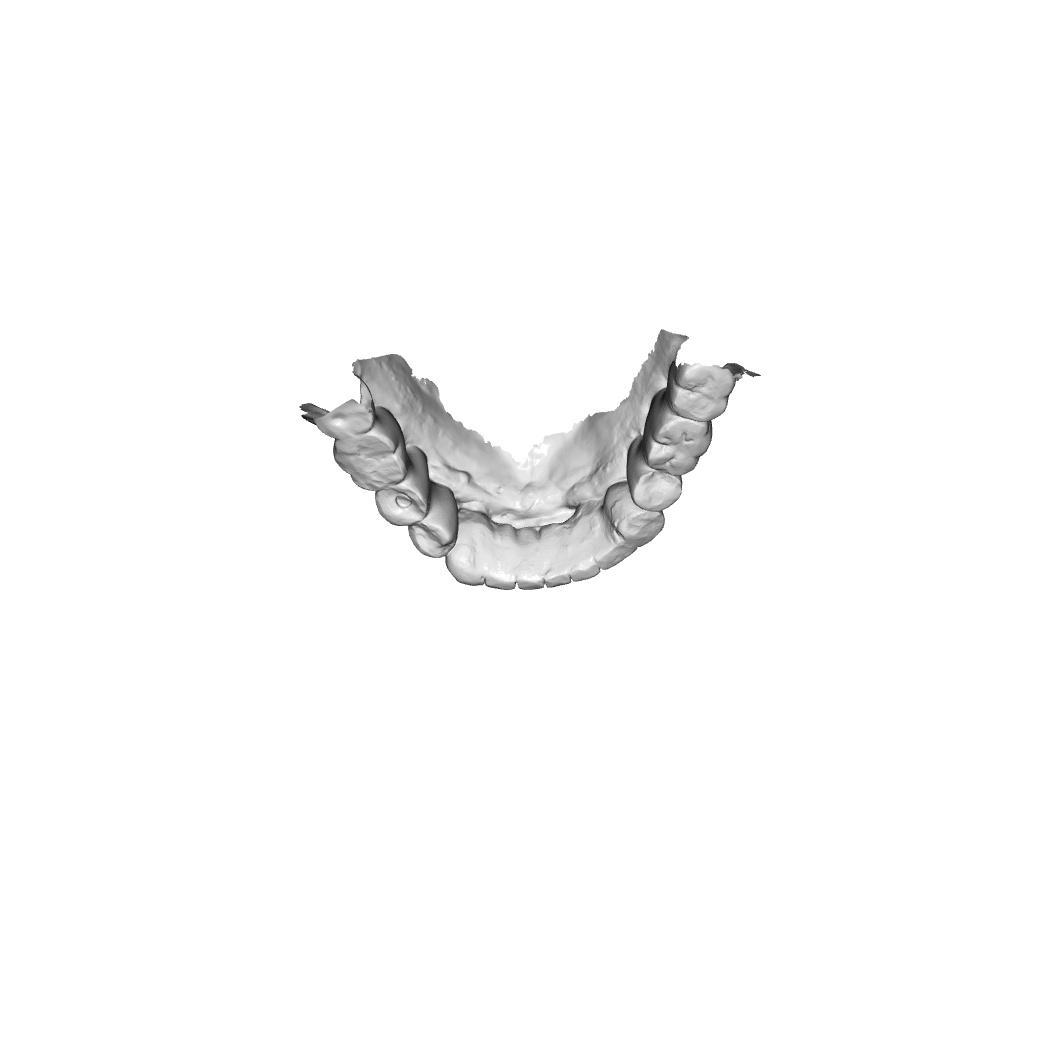canine: (444, 509, 486, 587), (592, 529, 638, 572)
incisor: (484, 522, 517, 590), (544, 522, 572, 588), (516, 526, 544, 591), (568, 535, 601, 583)
molar: (332, 405, 409, 492), (641, 387, 713, 476), (666, 359, 737, 423), (315, 395, 377, 442)
premolar: (374, 444, 431, 527), (625, 435, 683, 513), (602, 480, 666, 548), (407, 481, 460, 559)
